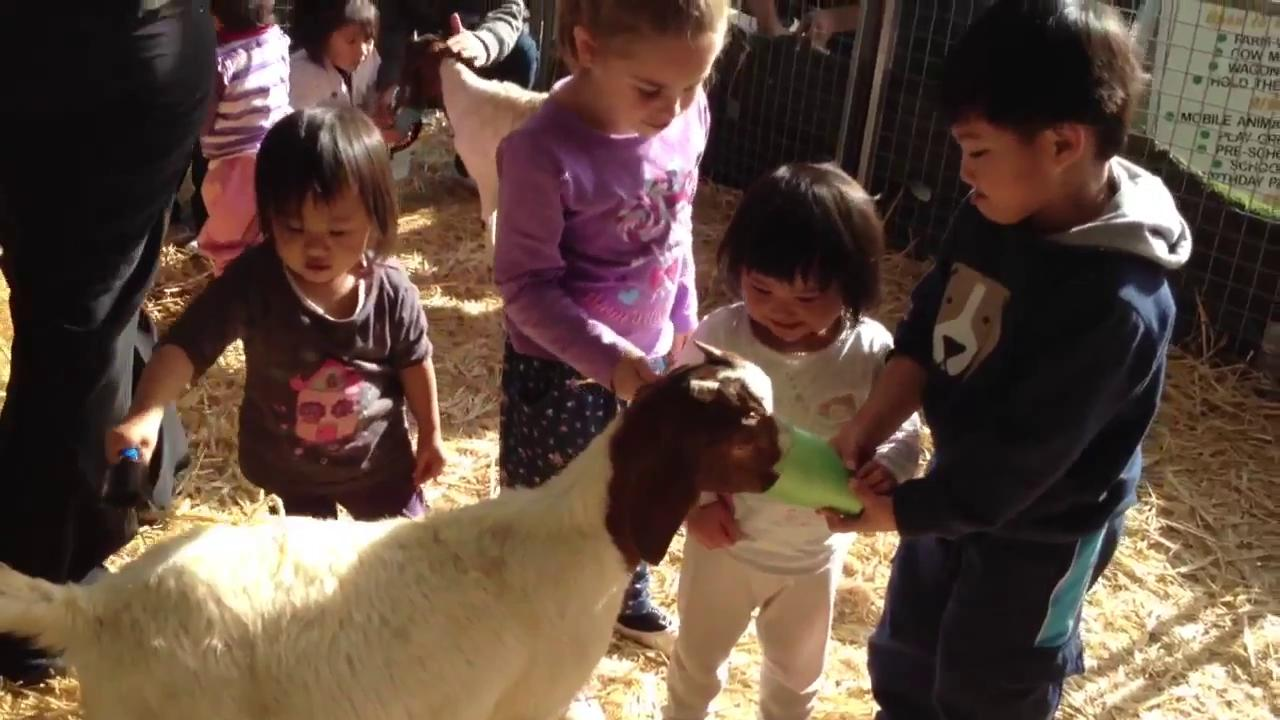victim: (822, 6, 1186, 716), (483, 4, 738, 663), (642, 154, 932, 708), (93, 115, 460, 520), (180, 1, 306, 295)
